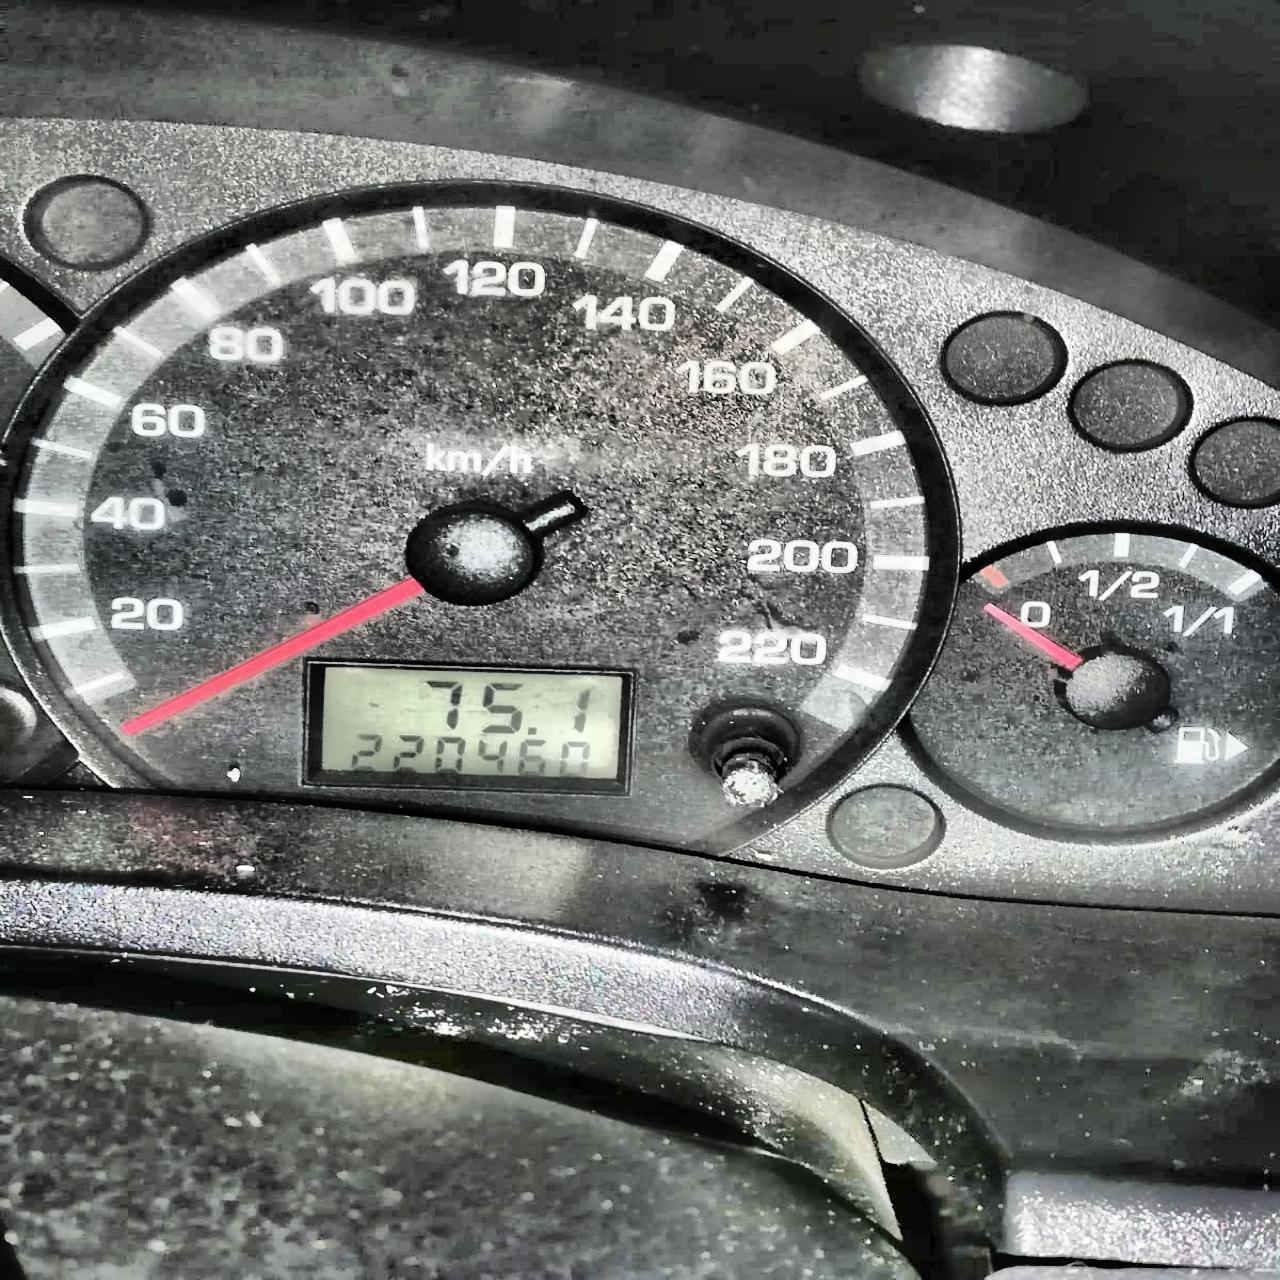-: (526, 727, 539, 736)
0: (557, 740, 590, 778), (433, 736, 465, 774)
1: (571, 688, 591, 734)
2: (390, 734, 423, 772), (349, 733, 382, 770)
4: (477, 738, 506, 774)
5: (481, 681, 523, 733)
6: (515, 738, 546, 776)
7: (423, 679, 463, 729)
odometer: (293, 655, 640, 799)
